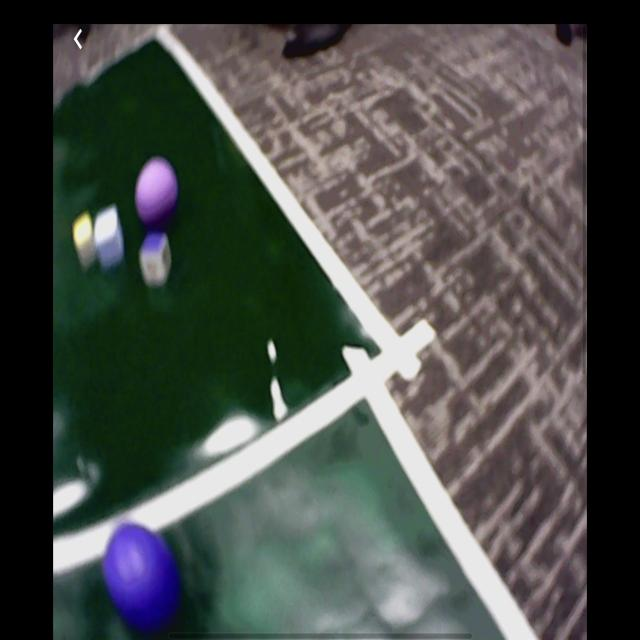ball: (107, 523, 178, 628), (136, 158, 178, 223)
